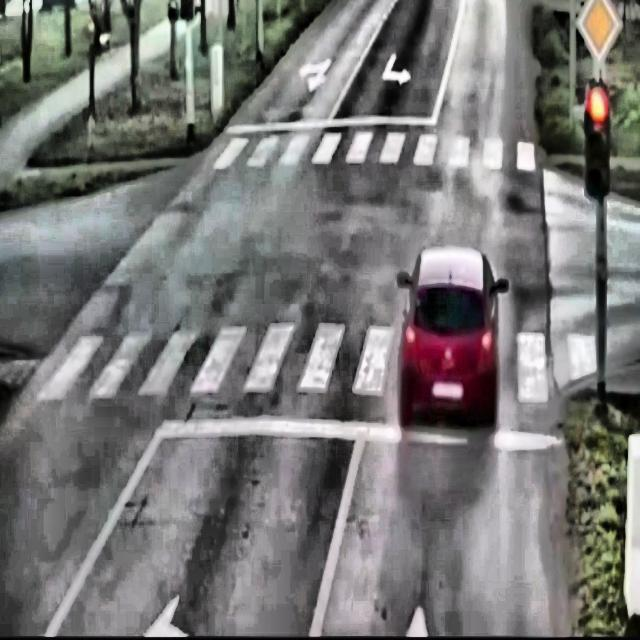red: (586, 75, 610, 201)
